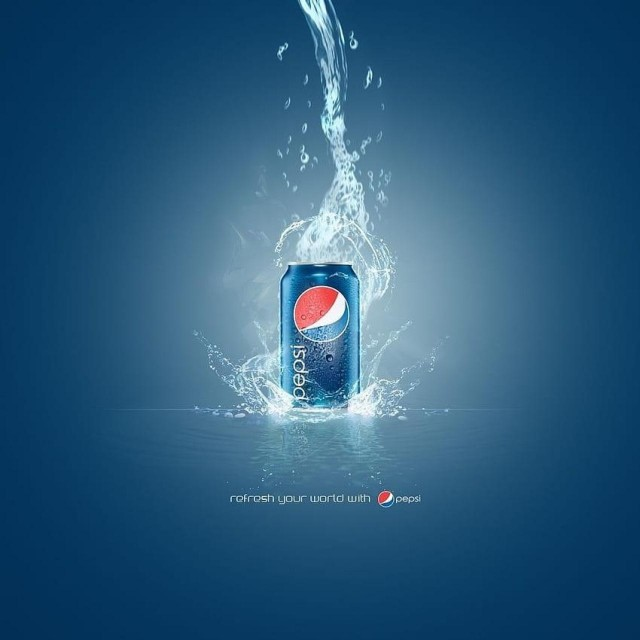pepsi: (291, 282, 349, 346), (376, 487, 396, 513)
